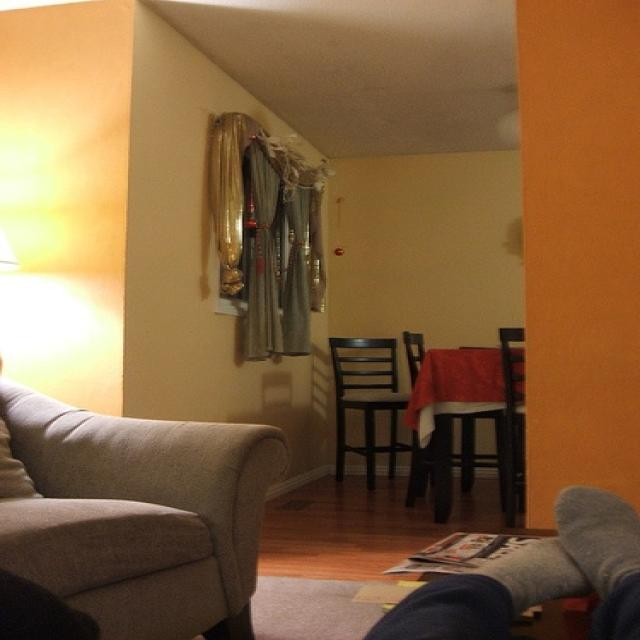chair: (397, 330, 525, 512), (327, 334, 421, 499), (498, 326, 532, 531)
diningtable: (405, 341, 532, 529)
sofa: (6, 363, 295, 636)
